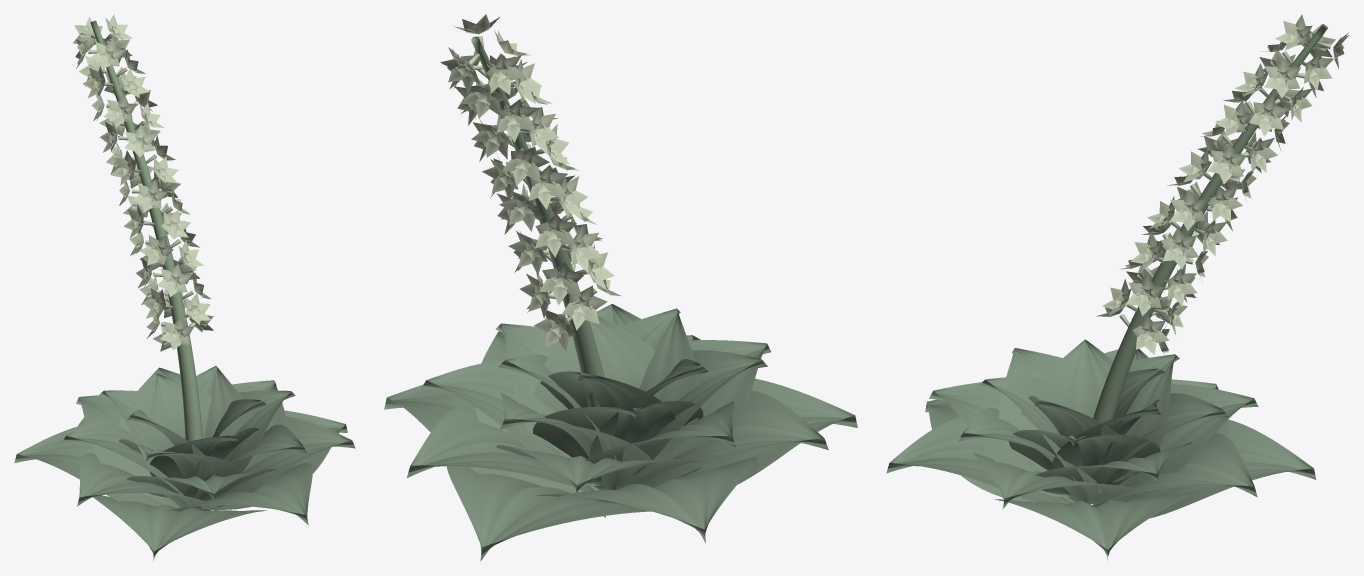
The picture shows the model from 3 angles, left to right: view 1: azimuth 30°, elevation 25°; view 2: azimuth 150°, elevation 25°; view 3: azimuth 270°, elevation 25°; orthographic projection. The views are drawn at different scales.
Visible parts, largest first — view 1: leafy_base, flower_stalk, floret.001, floret.009, floret.022, floret.035, floret.043, floret.030, floret.014, floret.017, floret.027, floret.004 (+5 smaller); view 2: leafy_base, flower_stalk, floret.008, floret.016, floret.003, floret.029, floret.037, floret.045, floret.024, floret, floret.021, floret.042 (+10 smaller); view 3: leafy_base, flower_stalk, floret.015, floret.028, floret.041, floret.007, floret.036, floret.020, floret.002, floret.023, floret.033, floret.010 (+6 smaller).
Boxes of the visible parts, <box> form: leafy_base: <box>14,366,355,561</box>; flower_stalk: <box>90,20,202,441</box>; floret.001: <box>160,316,193,350</box>; floret.009: <box>157,263,191,296</box>; floret.022: <box>132,179,167,212</box>; floret.035: <box>103,93,136,127</box>; floret.043: <box>90,38,125,69</box>; floret.030: <box>124,124,155,157</box>; floret.014: <box>139,235,173,265</box>; floret.017: <box>161,209,190,239</box>; floret.027: <box>111,150,141,185</box>; floret.004: <box>183,293,211,324</box>; leafy_base: <box>384,304,857,561</box>; flower_stalk: <box>471,36,604,406</box>; floret.008: <box>539,262,583,305</box>; floret.016: <box>535,213,576,257</box>; floret.003: <box>562,285,607,330</box>; floret.029: <box>502,147,549,185</box>; floret.037: <box>496,99,537,142</box>; floret.045: <box>486,54,525,95</box>; floret.024: <box>528,165,567,209</box>; floret: <box>534,310,575,351</box>; floret.021: <box>499,192,543,231</box>; floret.042: <box>461,80,505,118</box>; leafy_base: <box>886,339,1316,560</box>; flower_stalk: <box>1093,24,1327,422</box>; floret.015: <box>1160,228,1198,269</box>; floret.028: <box>1208,143,1246,183</box>; floret.041: <box>1264,56,1300,98</box>; floret.007: <box>1126,274,1164,315</box>; floret.036: <box>1249,95,1287,136</box>; floret.020: <box>1170,189,1205,230</box>; floret.002: <box>1132,315,1169,354</box>; floret.023: <box>1207,186,1242,222</box>; floret.033: <box>1215,100,1252,136</box>; floret.010: <box>1164,268,1197,306</box>.
Size of the model in its own units: 3.41 by 4.75 by 3.92.
